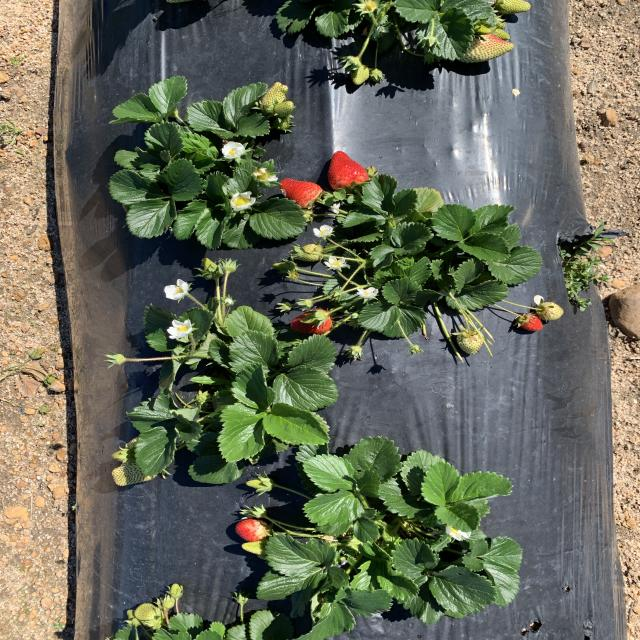unripe: (328, 148, 370, 192), (288, 307, 336, 336), (279, 177, 322, 209), (514, 313, 544, 332)
